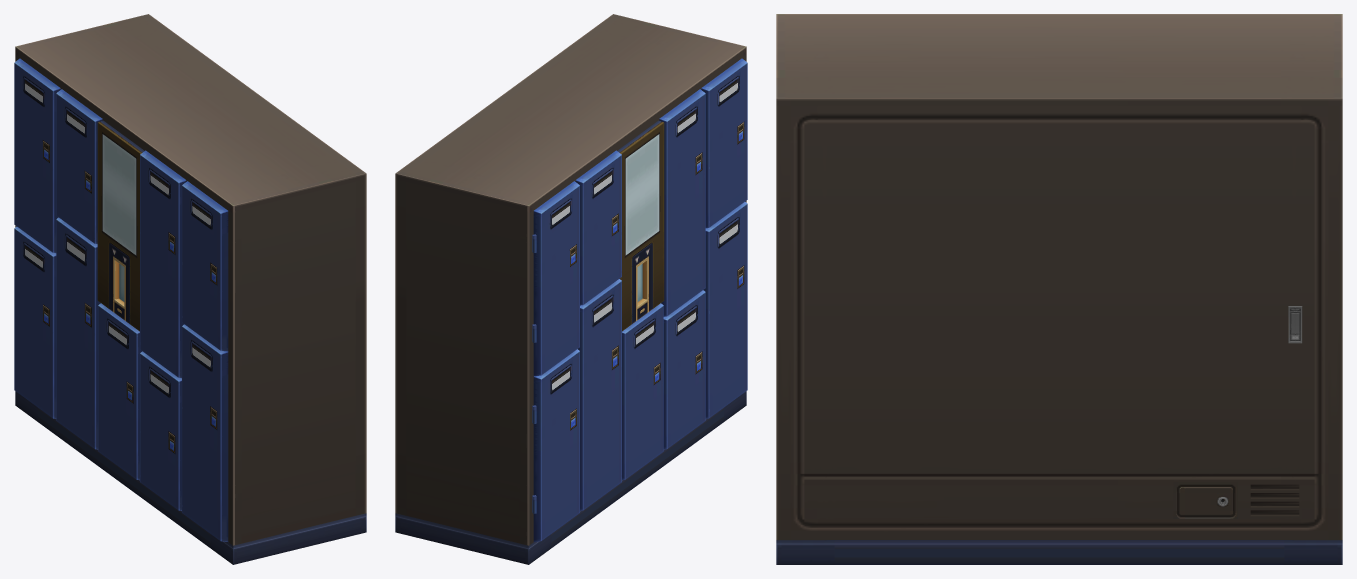
File: my_highlander_01_cabinet_02.glb
3 views of the same model, side by side, from view 1: azimuth 30°, elevation 25°; view 2: azimuth 150°, elevation 25°; view 3: azimuth 270°, elevation 25° (orthographic). The views are drawn at different scales.
Visible parts, largest first — view 1: my_highlander_01_cabinet_02; view 2: my_highlander_01_cabinet_02; view 3: my_highlander_01_cabinet_02.
Boxes of the visible parts, x1,y1,x2,y2 form: my_highlander_01_cabinet_02: (14, 14, 366, 564); my_highlander_01_cabinet_02: (395, 14, 747, 564); my_highlander_01_cabinet_02: (776, 14, 1342, 564).
Bounding box in the file's own units: 0.0044 × 0.0107 × 0.0118.
1 material, 1 textured.
